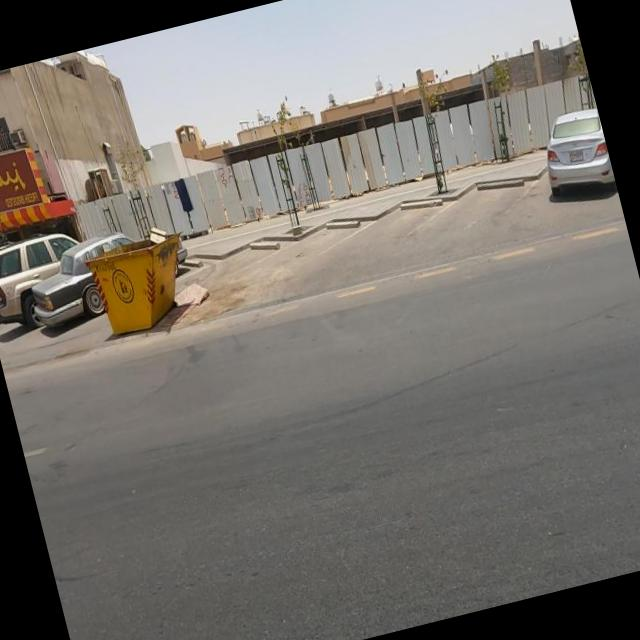debris: (111, 189, 204, 286), (160, 248, 226, 323)
